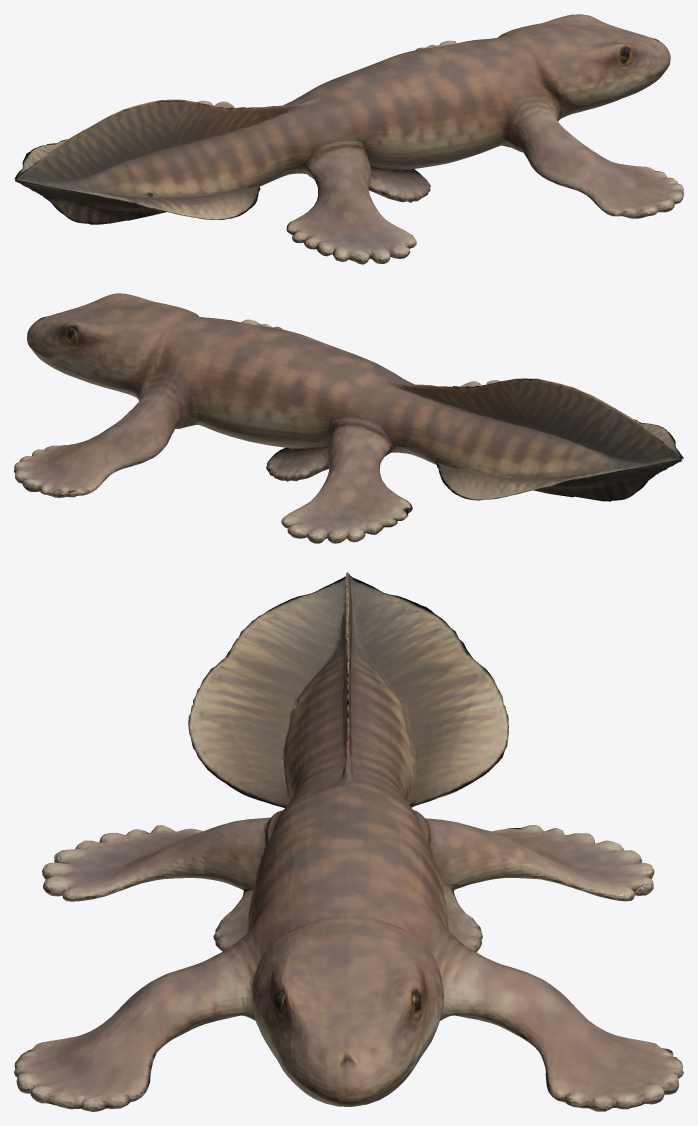
3 renders of one model, top to bottom at view 1: azimuth 30°, elevation 25°; view 2: azimuth 150°, elevation 25°; view 3: azimuth 270°, elevation 25°, orthographic. The views are drawn at different scales.
Parts seen in each view (by area): view 1: world; view 2: world; view 3: world.
Boxes of the visible parts, box(x1,y1,x2,y2) form: world: box(14, 14, 683, 264); world: box(14, 293, 683, 543); world: box(14, 572, 683, 1111).
Size of the model in its own units: 1 by 0.1898 by 0.601.
1 material, 1 textured.
